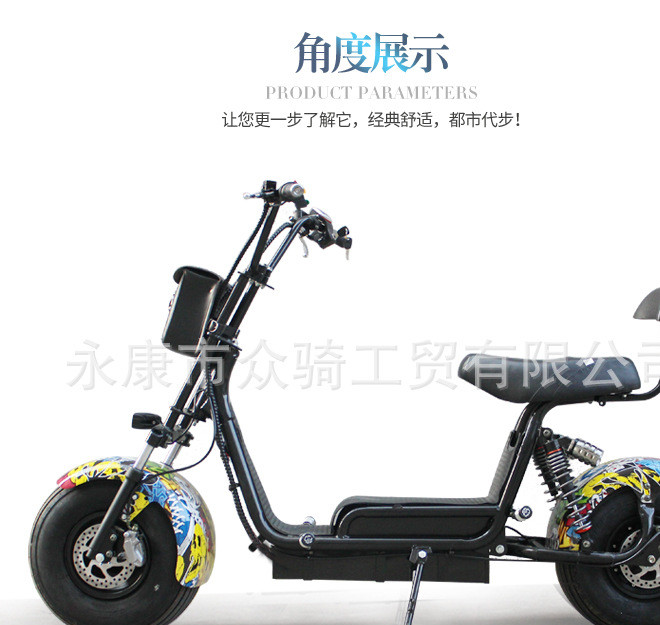电动车: (18, 167, 659, 623)
